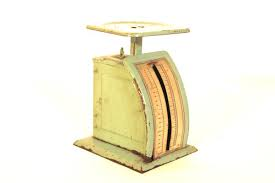Industrial Scale: (71, 20, 199, 174)
